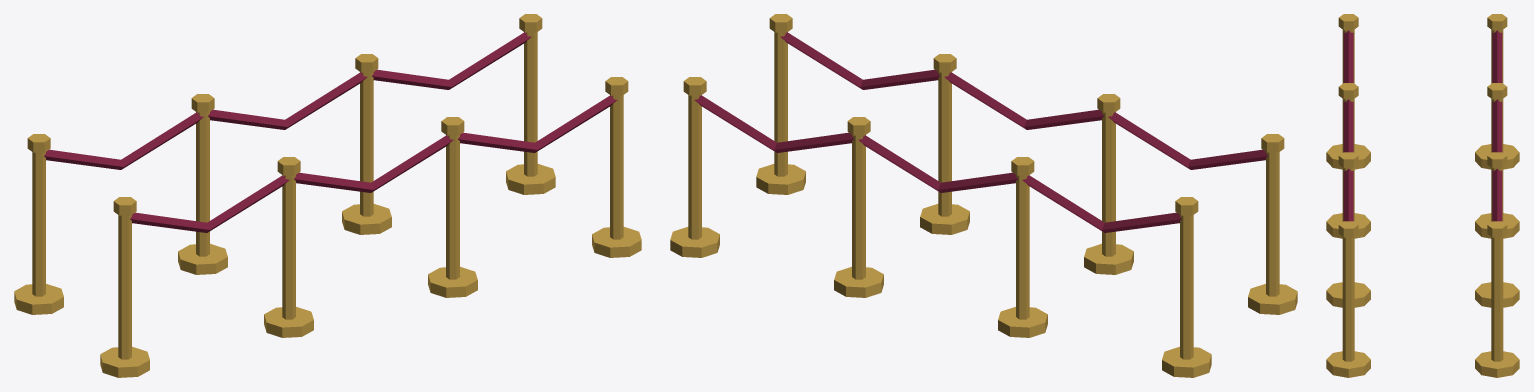
The model's file is QueuePosts.fbx.
3 renders of one model, left to right at view 1: azimuth 30°, elevation 25°; view 2: azimuth 150°, elevation 25°; view 3: azimuth 270°, elevation 25°, orthographic. The views are drawn at different scales.
Visible parts, largest first — view 1: QueuePosts; view 2: QueuePosts; view 3: QueuePosts.
Boxes of the visible parts, bbox=[...] form: QueuePosts: bbox=[14, 14, 641, 377]; QueuePosts: bbox=[670, 14, 1297, 377]; QueuePosts: bbox=[1326, 14, 1519, 377].
Size of the model in its own units: 10.8 by 3.2 by 3.9.
1 material, 1 textured.
